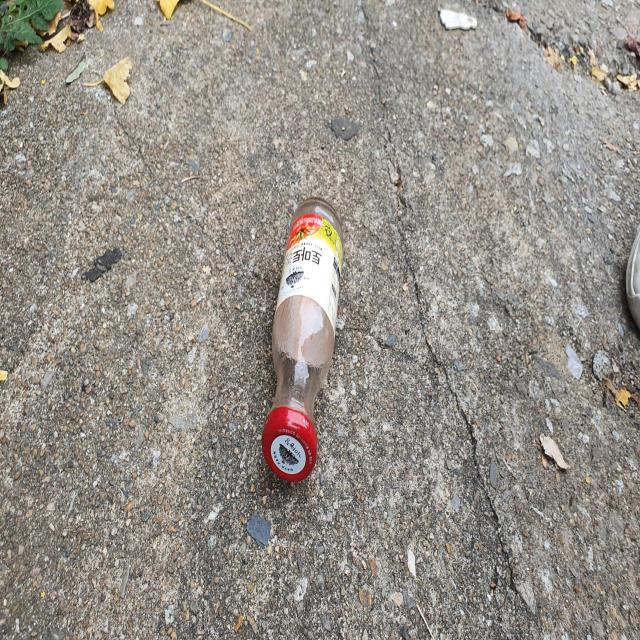glass: (262, 196, 344, 481)
